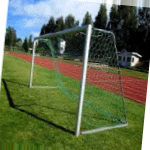goals: (28, 23, 132, 136)
